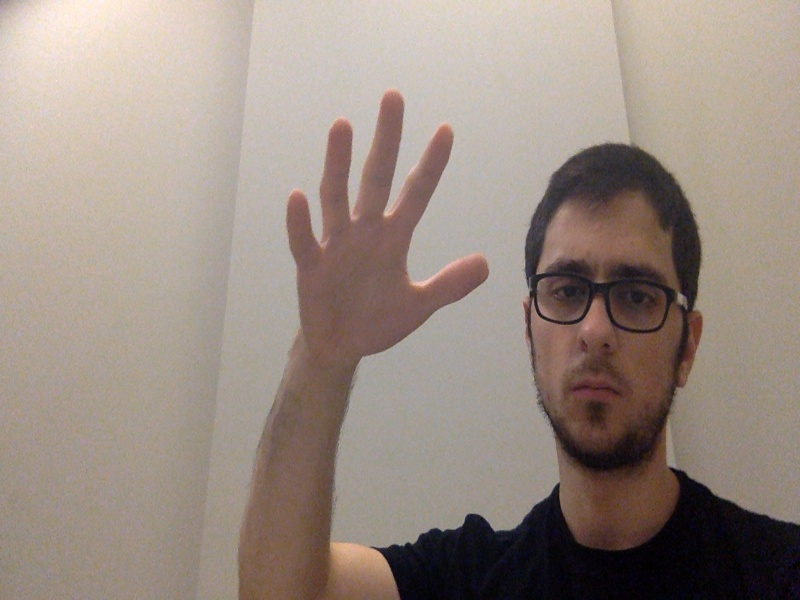5-hand: (284, 90, 492, 362)
